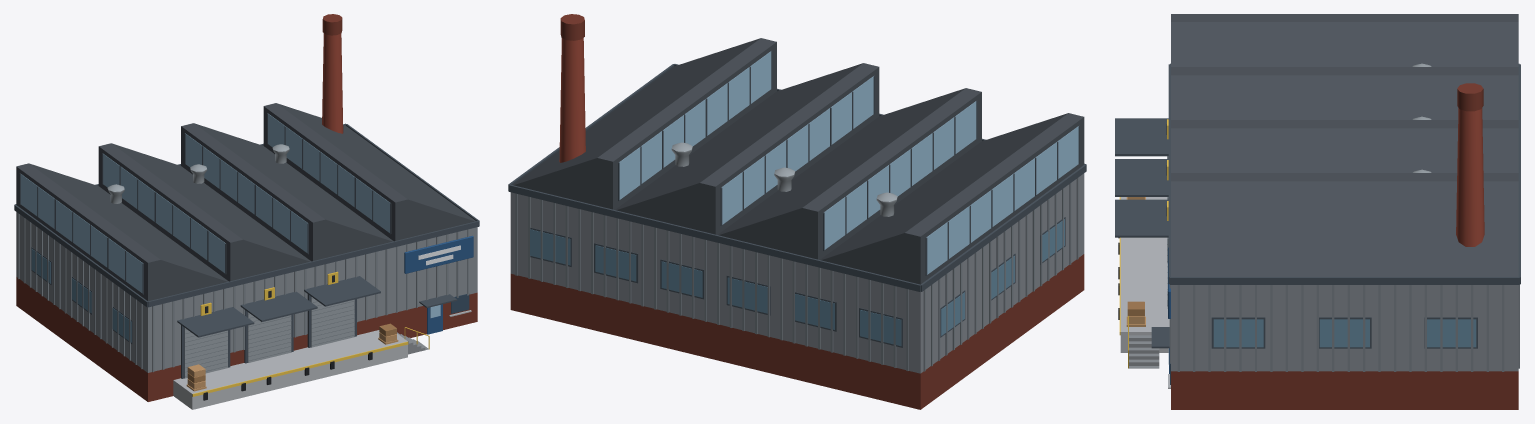
File: industrial.glb
3 renders of one model, left to right at view 1: azimuth 30°, elevation 25°; view 2: azimuth 150°, elevation 25°; view 3: azimuth 270°, elevation 25°, orthographic. The views are drawn at different scales.
Visible parts, largest first — view 1: industrial; view 2: industrial; view 3: industrial.
Part boxes in pixels (left/top/right/bottom): industrial: left=14, top=14, right=479, bottom=409; industrial: left=508, top=14, right=1086, bottom=409; industrial: left=1115, top=14, right=1520, bottom=409.
Size of the model in its own units: 26.24 by 17.2 by 21.02.
